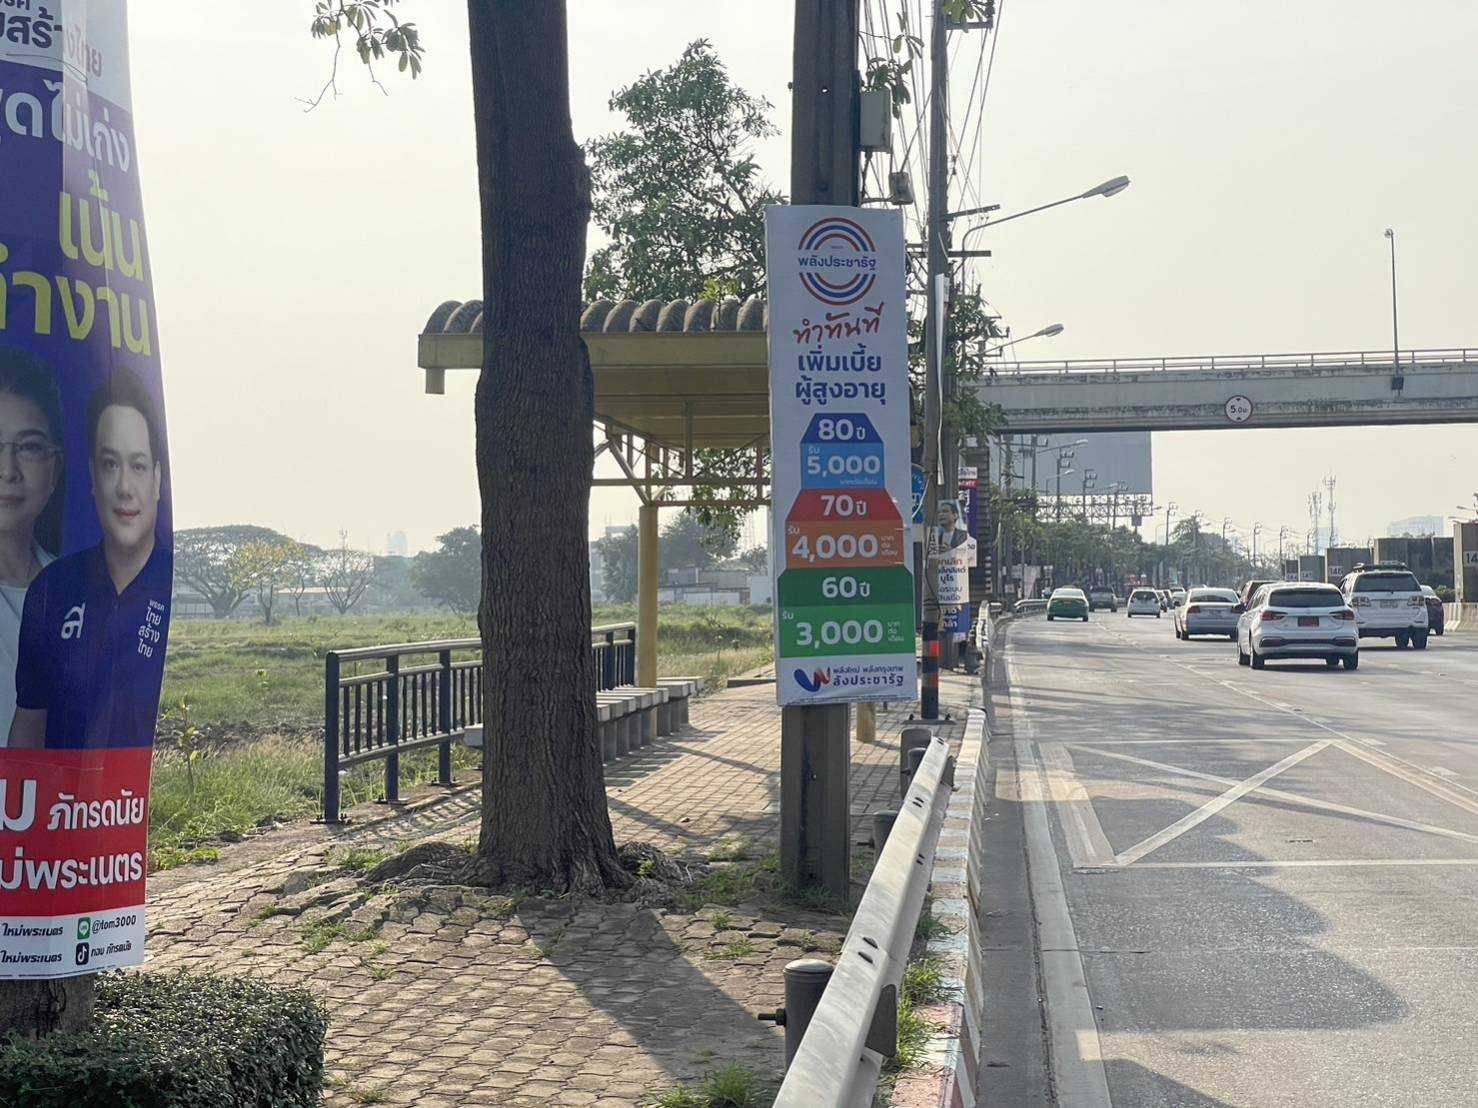Banner: (5, 19, 169, 981), (760, 208, 918, 701), (938, 495, 971, 646)
